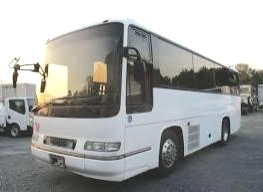bus: (31, 18, 242, 182)
